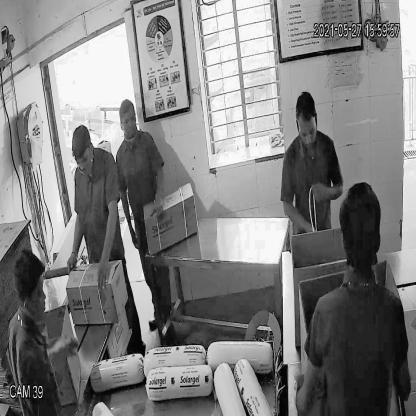no_goggles: (298, 121, 320, 144), (72, 152, 94, 169)
